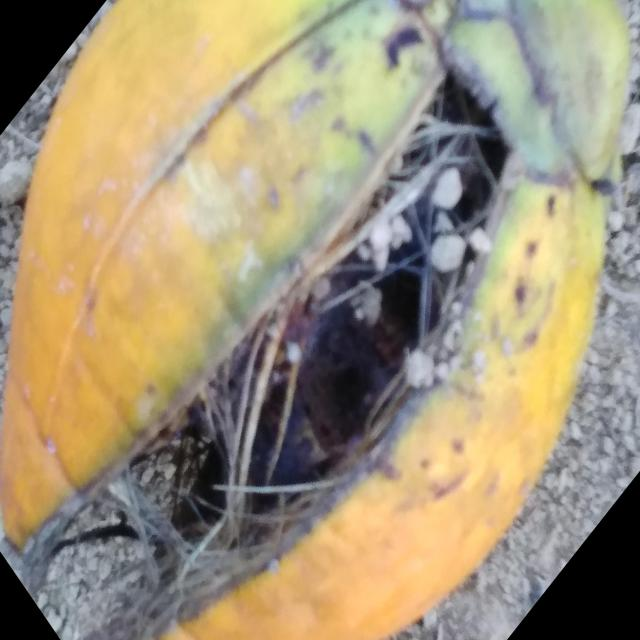damaged: (0, 0, 630, 640)
